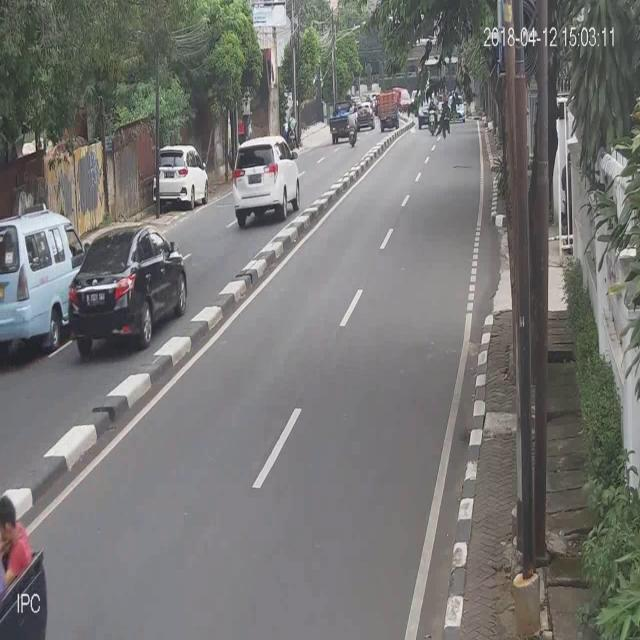motorcycle: (66, 224, 190, 353), (232, 133, 302, 224), (150, 140, 209, 210)
